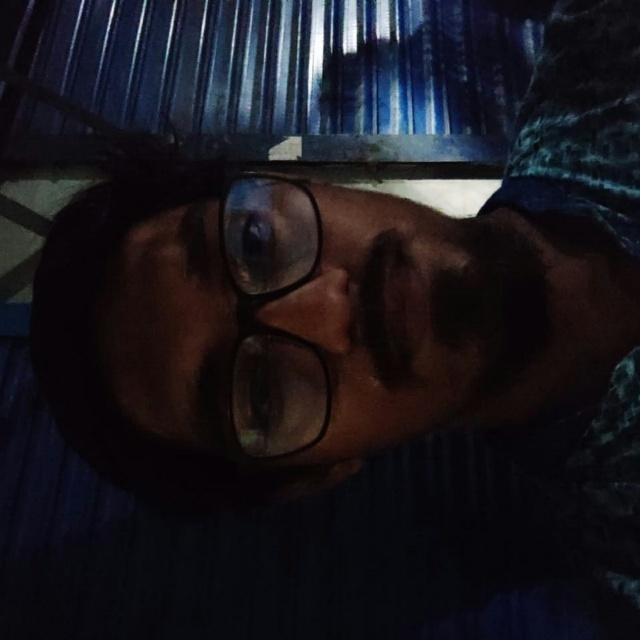Natural: (72, 105, 558, 524)
